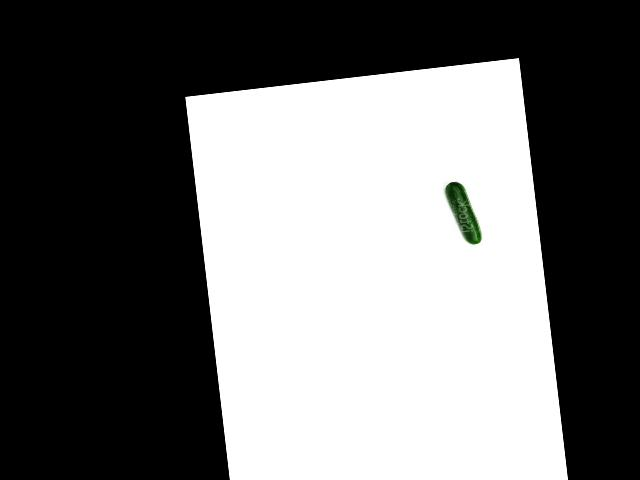cucumber: (444, 178, 482, 246)
